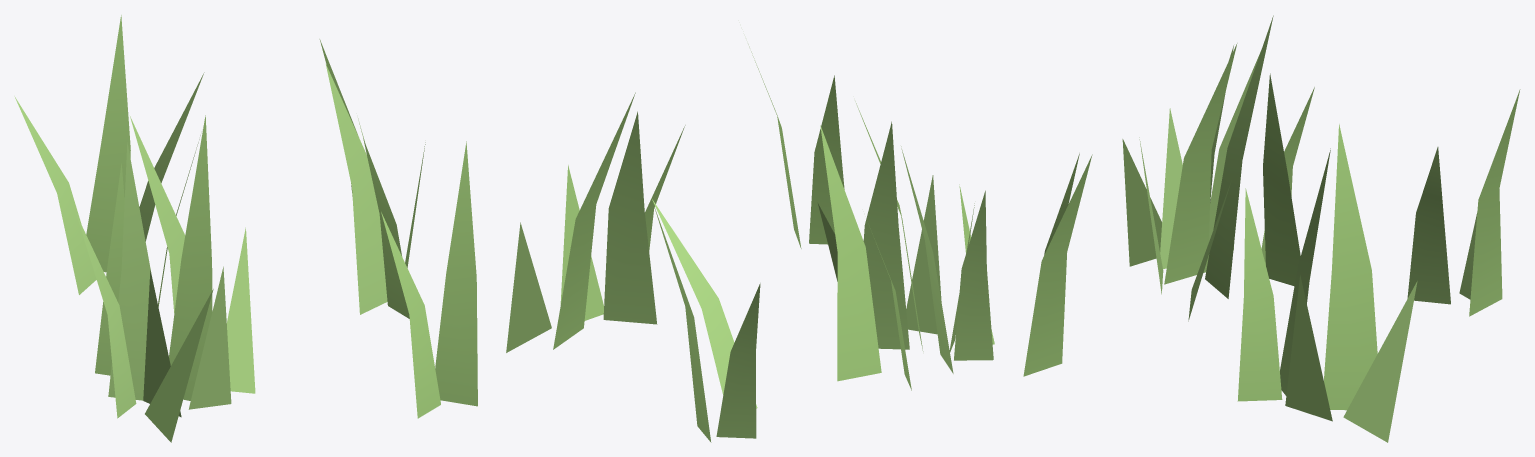
File: Grass_a_OneS_07.fbx
3 views of the same model, side by side, from view 1: azimuth 30°, elevation 25°; view 2: azimuth 150°, elevation 25°; view 3: azimuth 270°, elevation 25° (orthographic).
Parts seen in each view (by area): view 1: Grass_a_OneS_07; view 2: Grass_a_OneS_07; view 3: Grass_a_OneS_07.
Part boxes in pixels (left/top/right/bottom): Grass_a_OneS_07: left=14, top=15, right=477, bottom=442; Grass_a_OneS_07: left=506, top=44, right=994, bottom=442; Grass_a_OneS_07: left=1023, top=15, right=1520, bottom=442.
Size of the model in its own units: 100 by 64.28 by 108.
